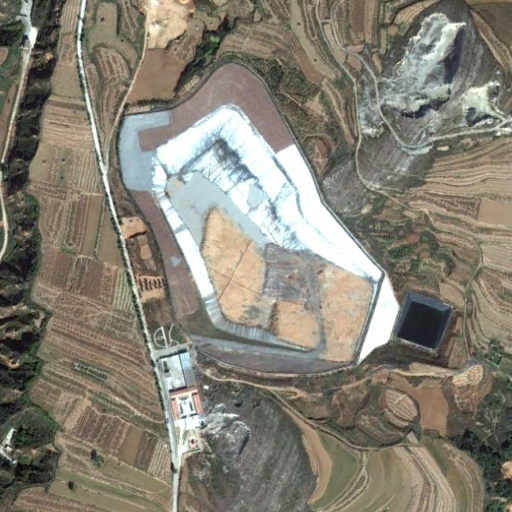lf: (115, 59, 402, 385)
